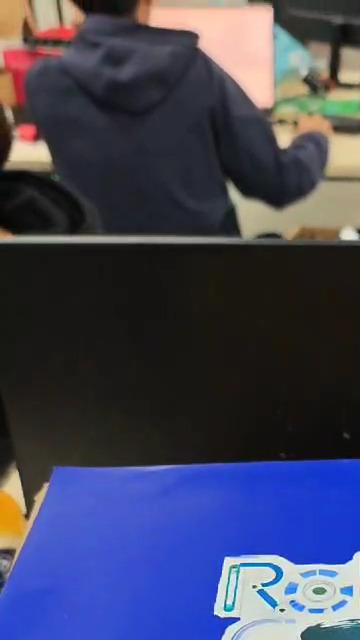B_R1: (5, 537, 360, 640)
